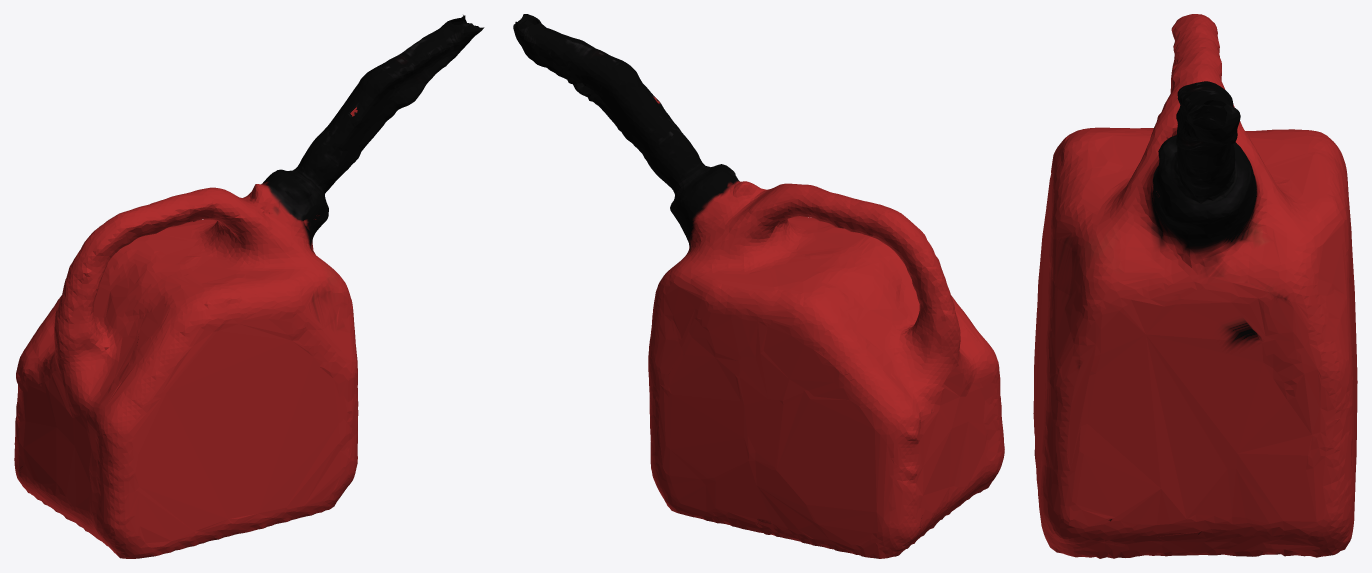
Rendered from gastank_color.dae.
3 renders of one model, left to right at view 1: azimuth 30°, elevation 25°; view 2: azimuth 150°, elevation 25°; view 3: azimuth 270°, elevation 25°, orthographic. The views are drawn at different scales.
Parts seen in each view (by area): view 1: node; view 2: node; view 3: node.
Boxes of the visible parts, x1,y1,x2,y2 form: node: (14,15,484,558); node: (513,14,1004,558); node: (1033,14,1357,558).
Size of the model in its own units: 3.68 by 3.32 by 1.68.
1 material, 1 textured.
